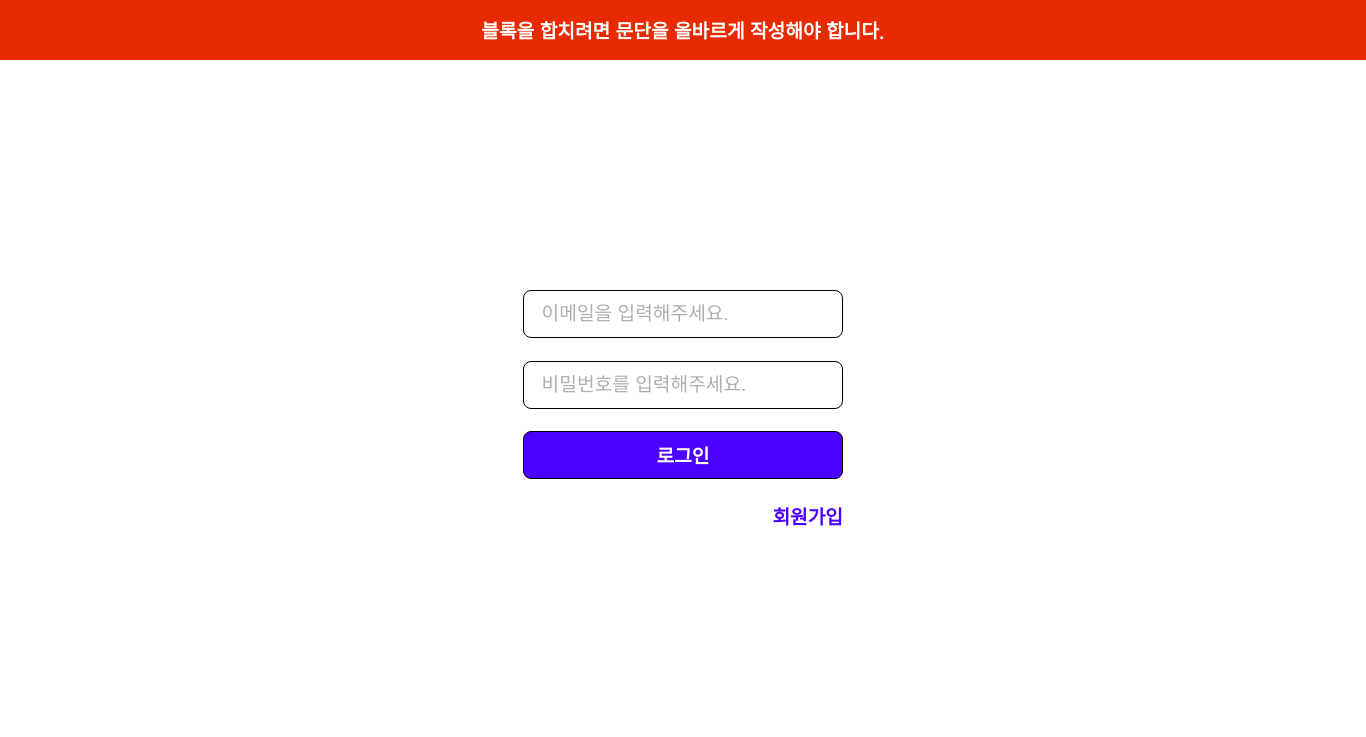
Scenario: App › Writing Page › 글 제목을 클릭했을 때 › 블록이 여러개면 완료 버튼을 눌렀을 때 에러 메세지를 보여준다
The image size is (1366, 737).
Type "hyemin@email.com" into the field with placeholder "이메일을 입력해주세요." at (683, 314), box [532,299,834,329]
Type "password123" into the password field with placeholder "비밀번호를 입력해주세요." at (683, 385), box [532,370,834,400]
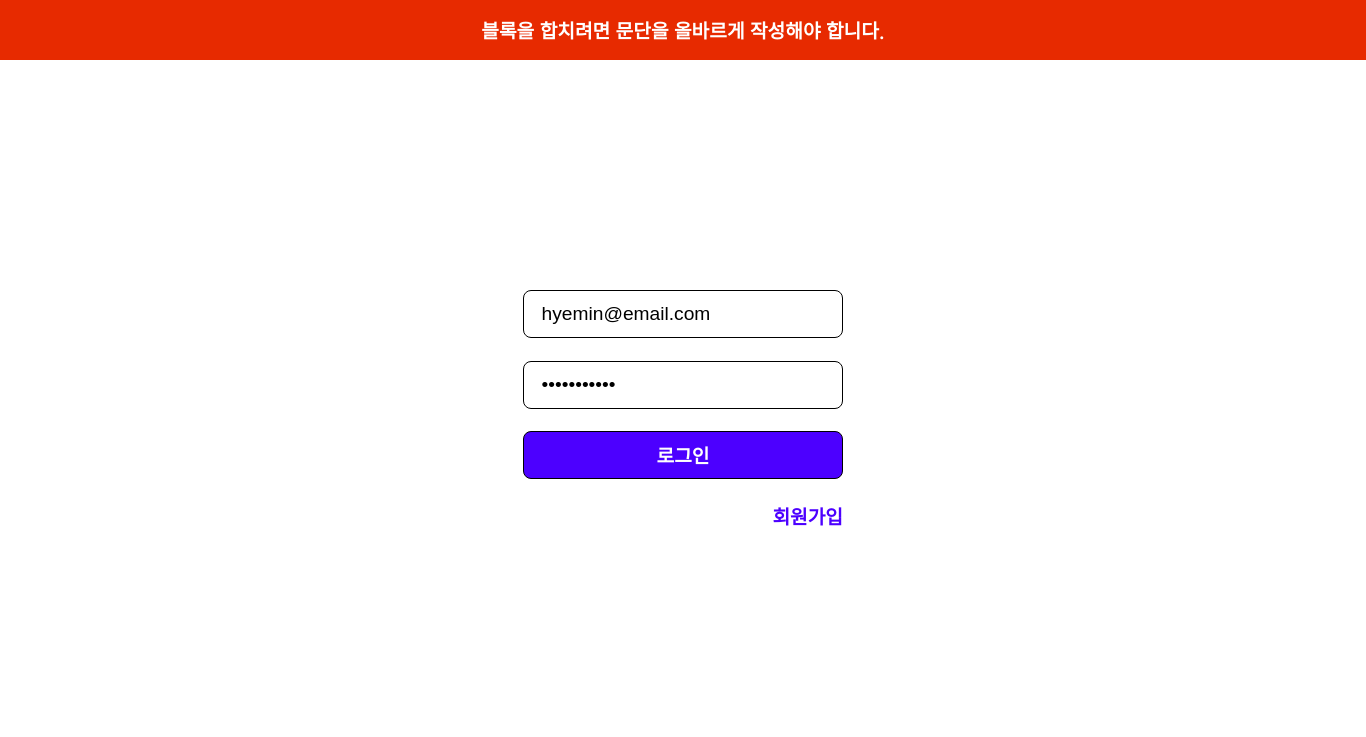
Click the button "로그인" at (683, 455), box [523,431,843,479]
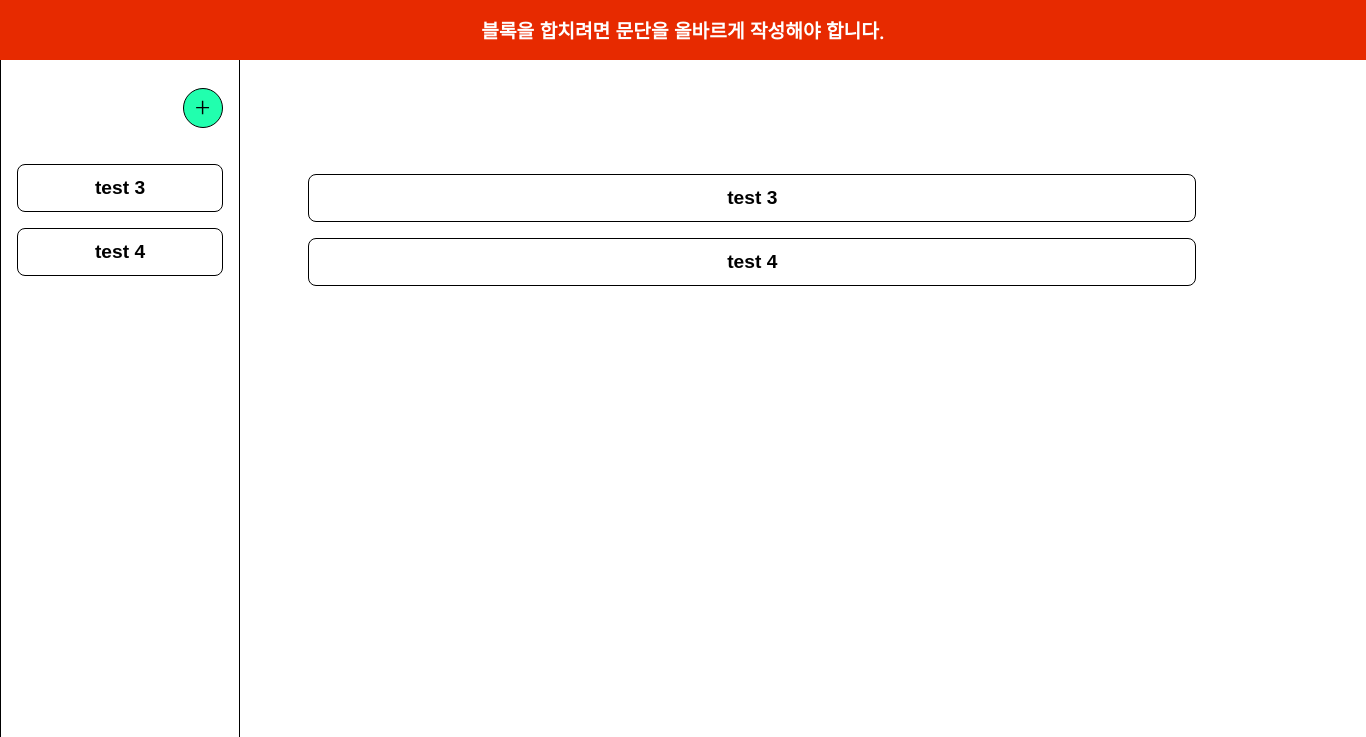
Click the button titled "add writing" at (203, 108), box [183,88,223,128]
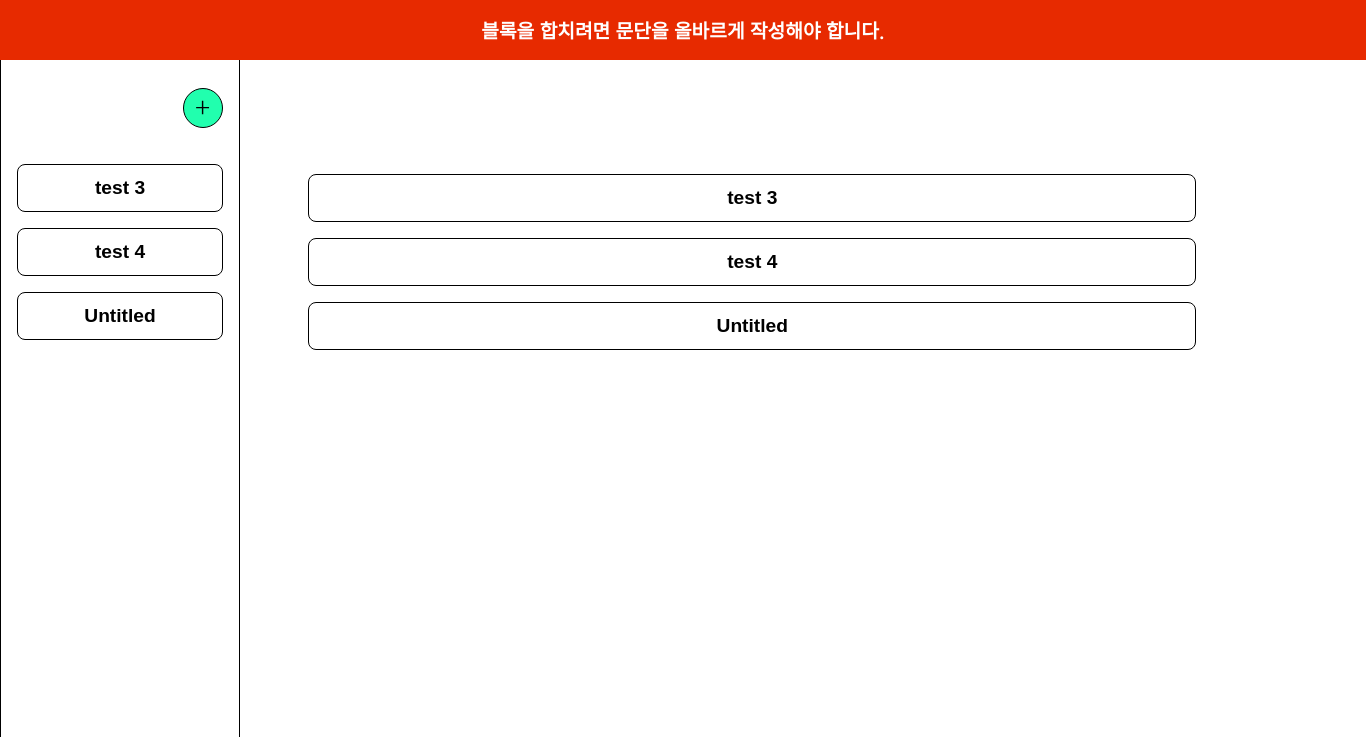
Click the 1st button "Untitled" at (120, 316), box [17,292,223,340]
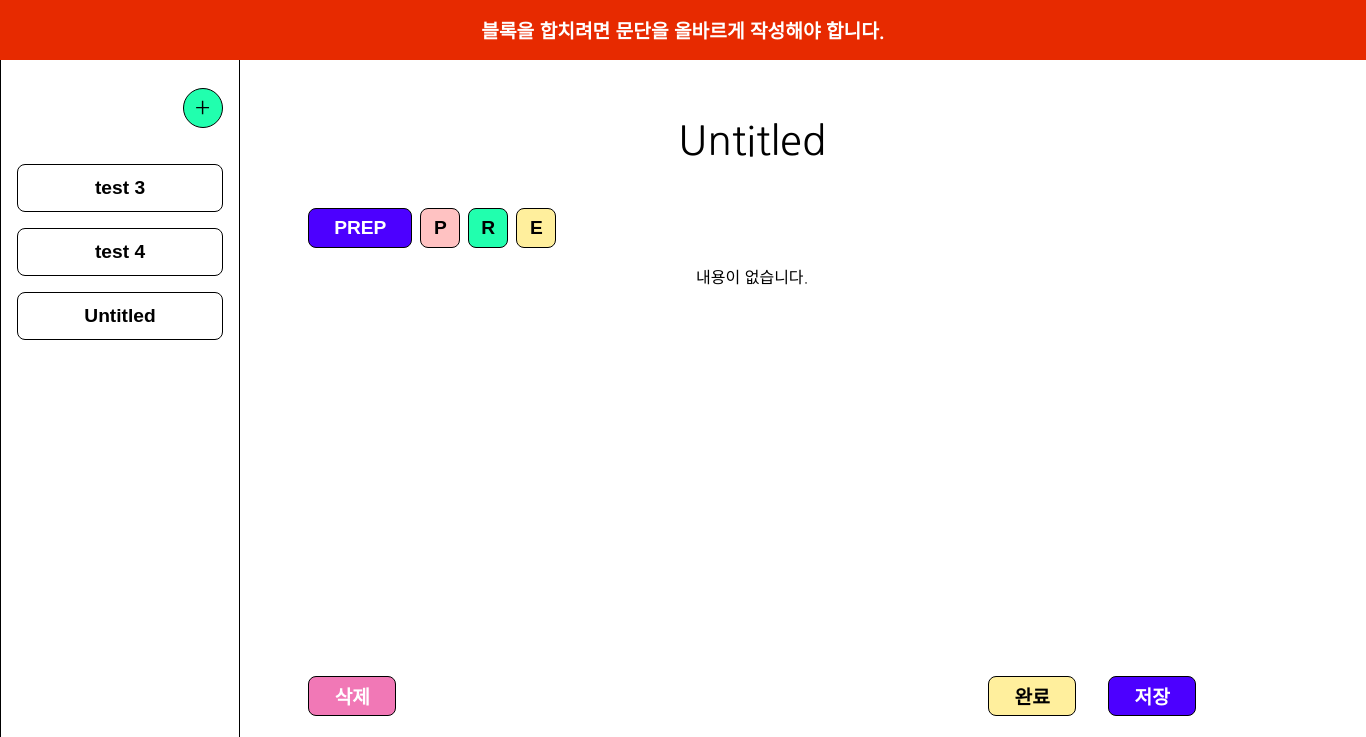
Click the button "PREP" at (360, 228), box [308,208,412,248]
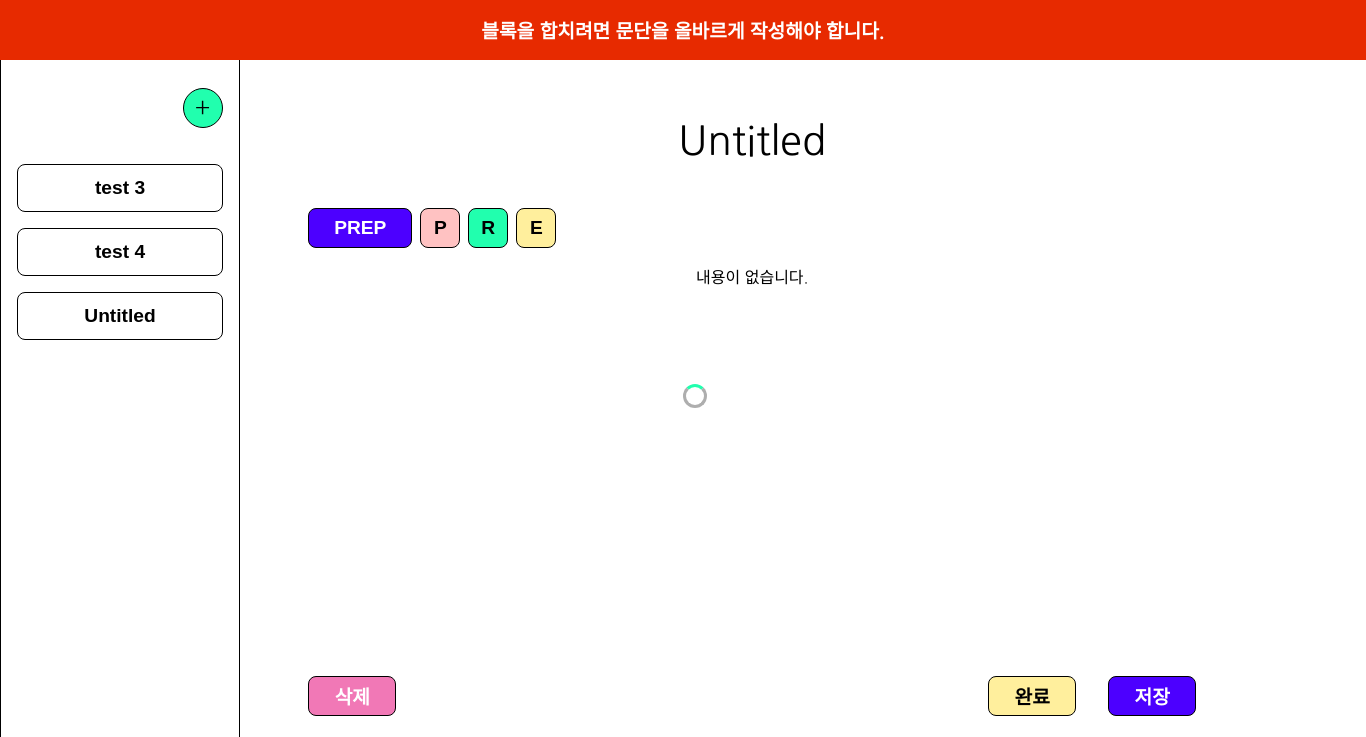
Click the button "완료" at (1032, 696), box [988,676,1076,716]
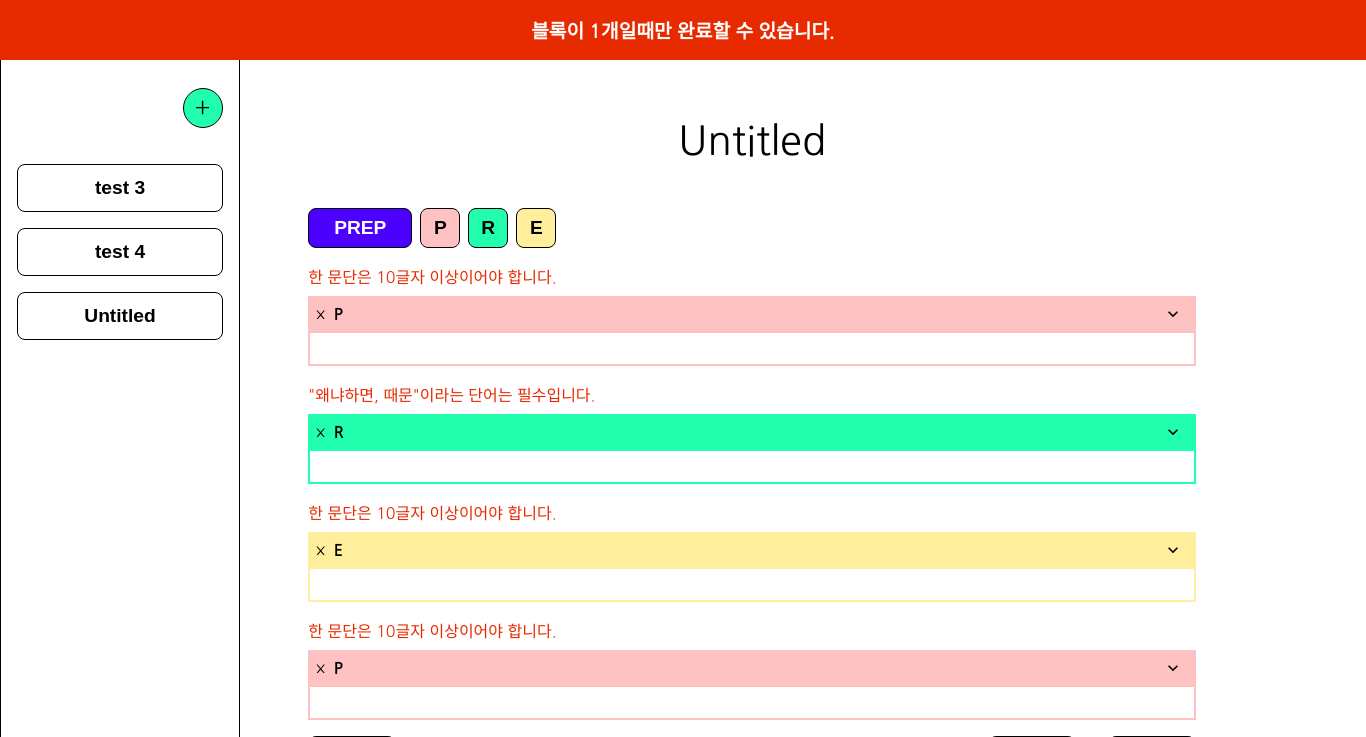
expect the text "블록이 1개일때만 완료할 수 있습니다." is shown: met, box [0,0,1365,60]
